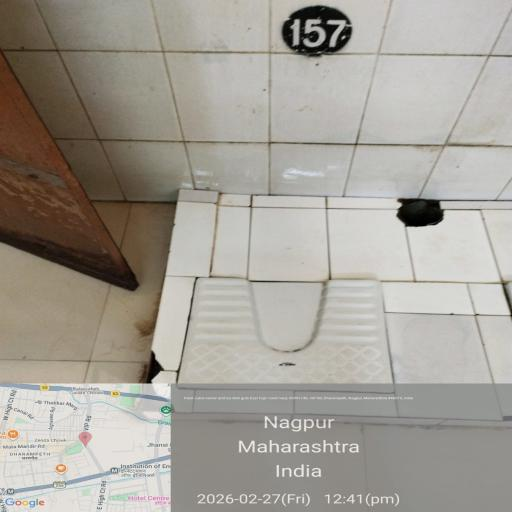clean_floor: (38, 19, 510, 191)
clean_indian: (177, 261, 403, 402)
damage: (112, 349, 179, 392)
